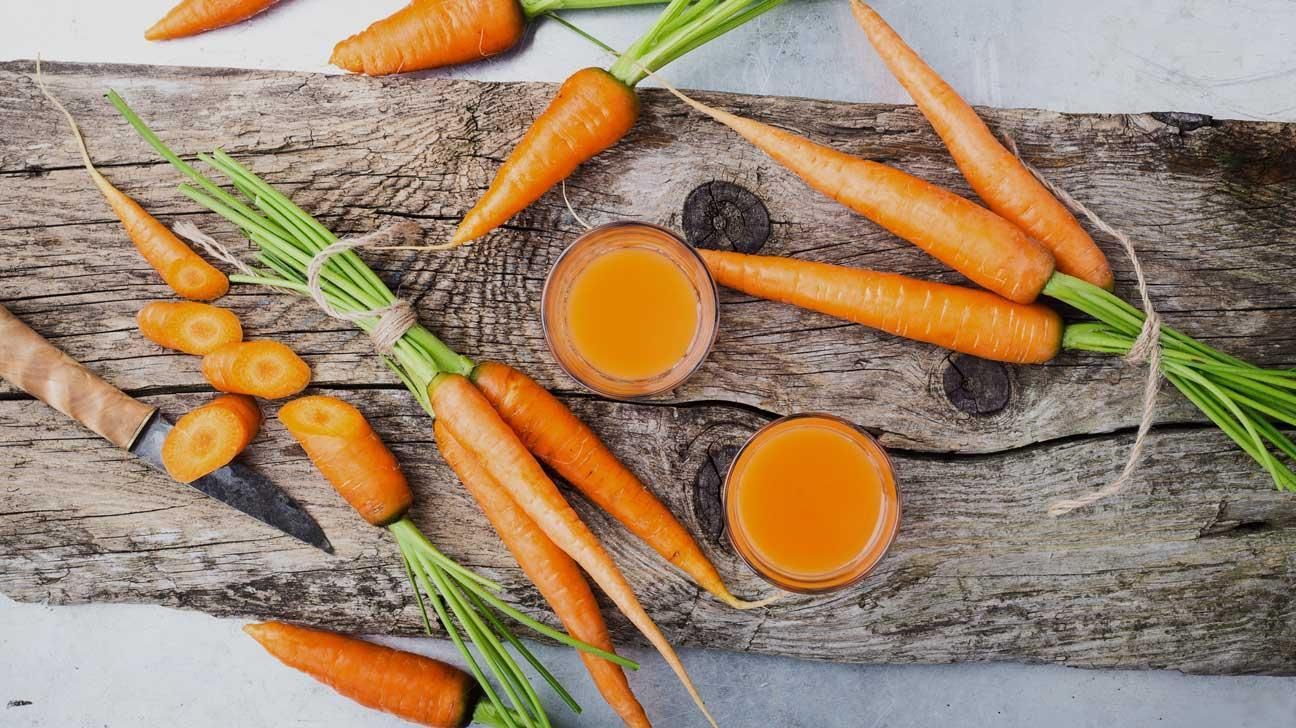carrot: (296, 404, 739, 728), (732, 29, 1138, 342), (429, 42, 633, 240), (129, 0, 603, 68), (256, 599, 504, 728)
